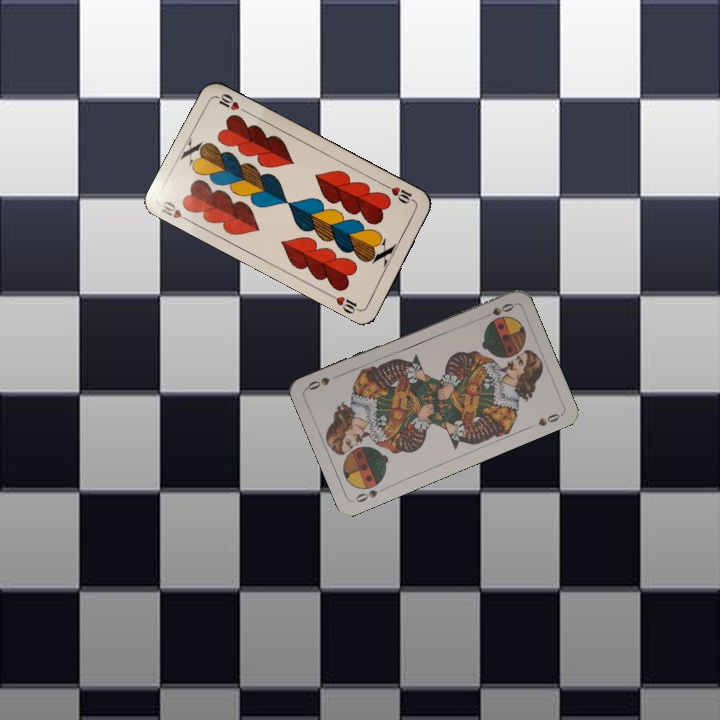H10: (157, 197, 194, 225), (381, 180, 418, 206)
SO: (478, 299, 517, 321), (351, 485, 380, 505)
